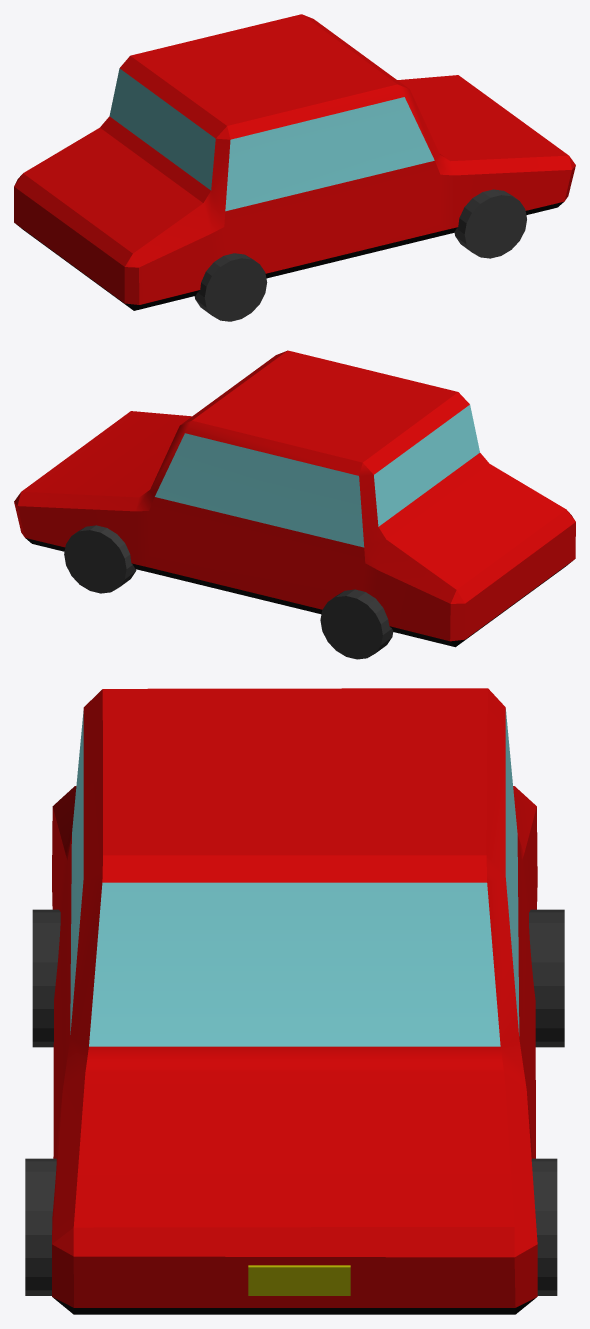
File: car.fbx
3 views of the same model, one above another, from view 1: azimuth 30°, elevation 25°; view 2: azimuth 150°, elevation 25°; view 3: azimuth 270°, elevation 25° (orthographic). The views are drawn at different scales.
Visible parts, largest first — view 1: car; view 2: car; view 3: car.
Part boxes in pixels (box(x1,y1,x2,y2)): car: box(14, 14, 575, 321); car: box(14, 350, 575, 659); car: box(25, 688, 564, 1314).
Bounding box in the file's own units: 76.17 × 28.93 × 39.39.
